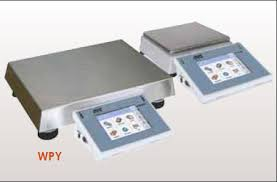Industrial Scale: (2, 37, 177, 161), (138, 21, 273, 102)
